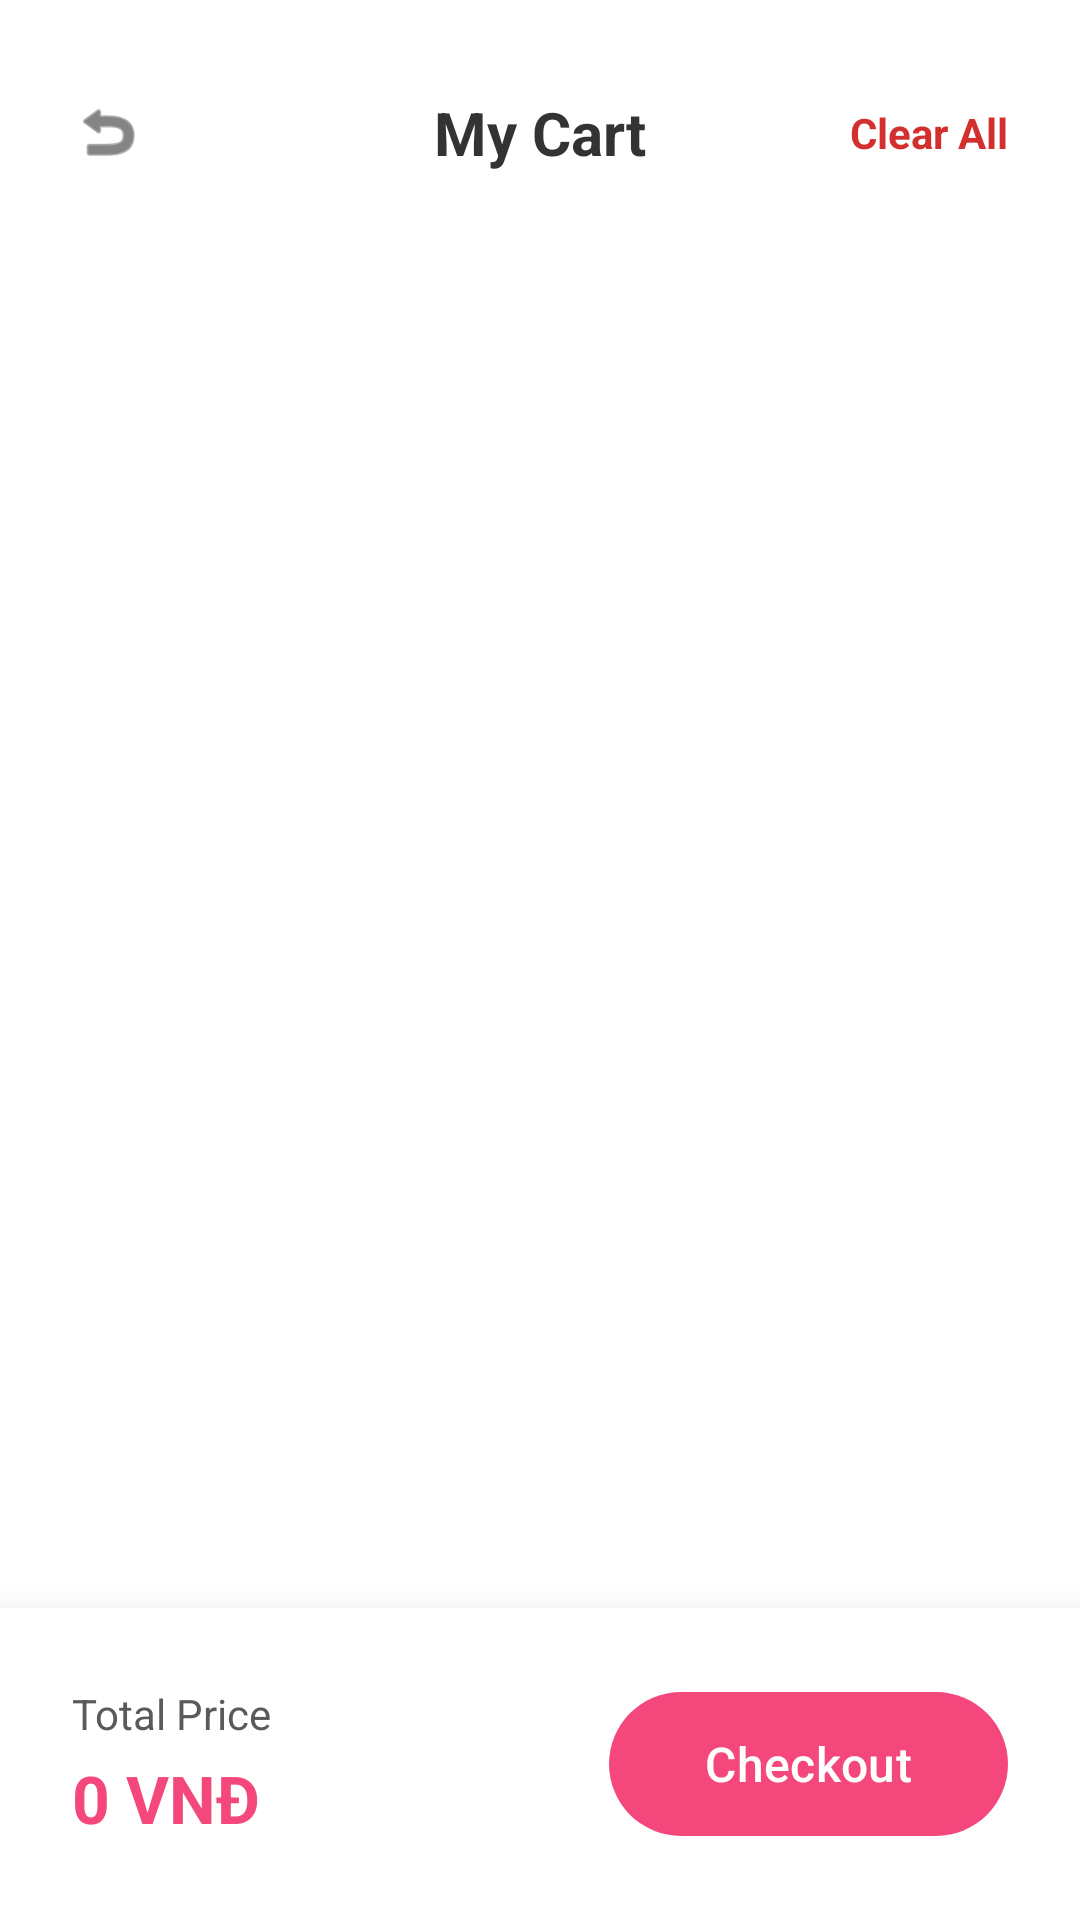

Icon click points for this 1080px×1920px phone screenshot, format point (x, y):
revert: point (109, 132)
